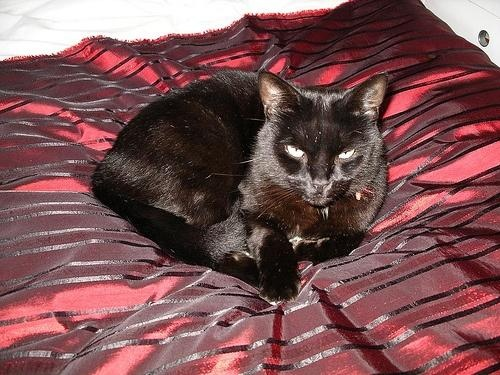cat: (87, 67, 395, 305)
